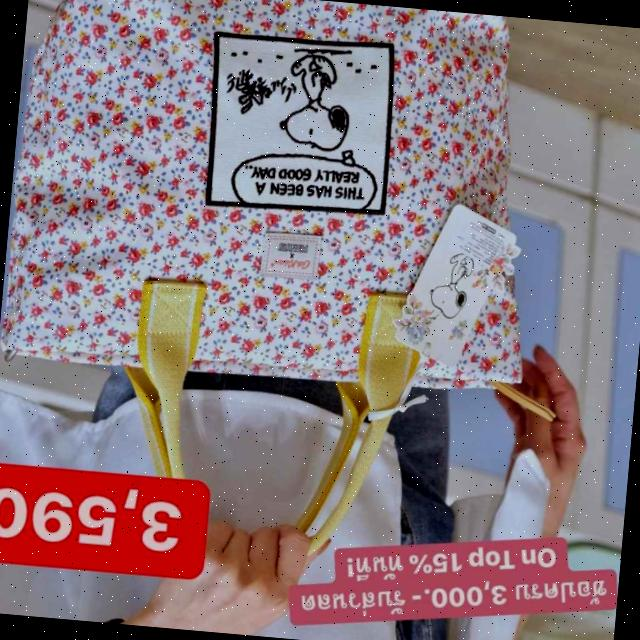Handbag: (0, 0, 572, 436)
